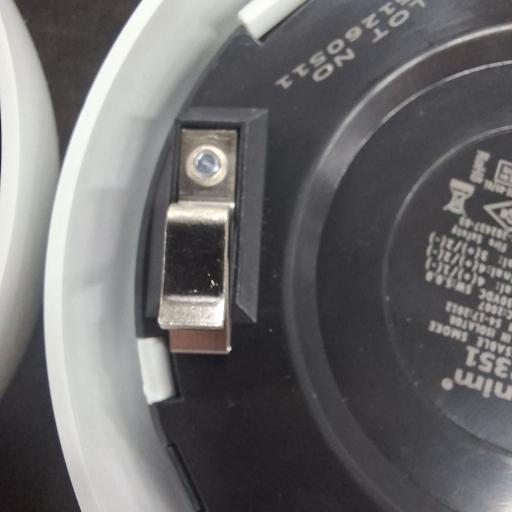yayli: (155, 120, 242, 357)
